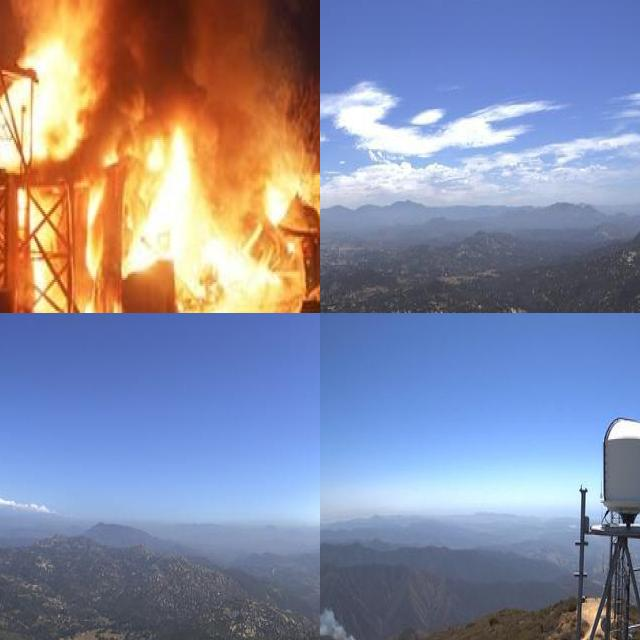fire: (0, 39, 297, 313)
smoke: (0, 0, 320, 159), (320, 549, 359, 640)
